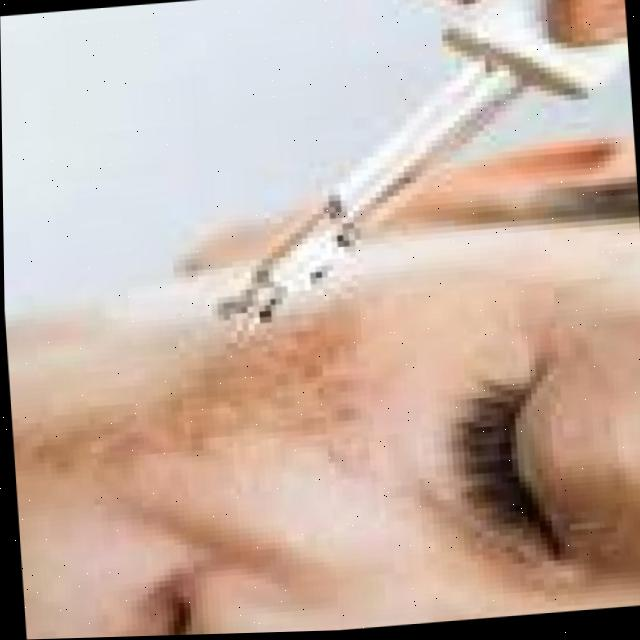Melasma: (76, 318, 330, 488)
